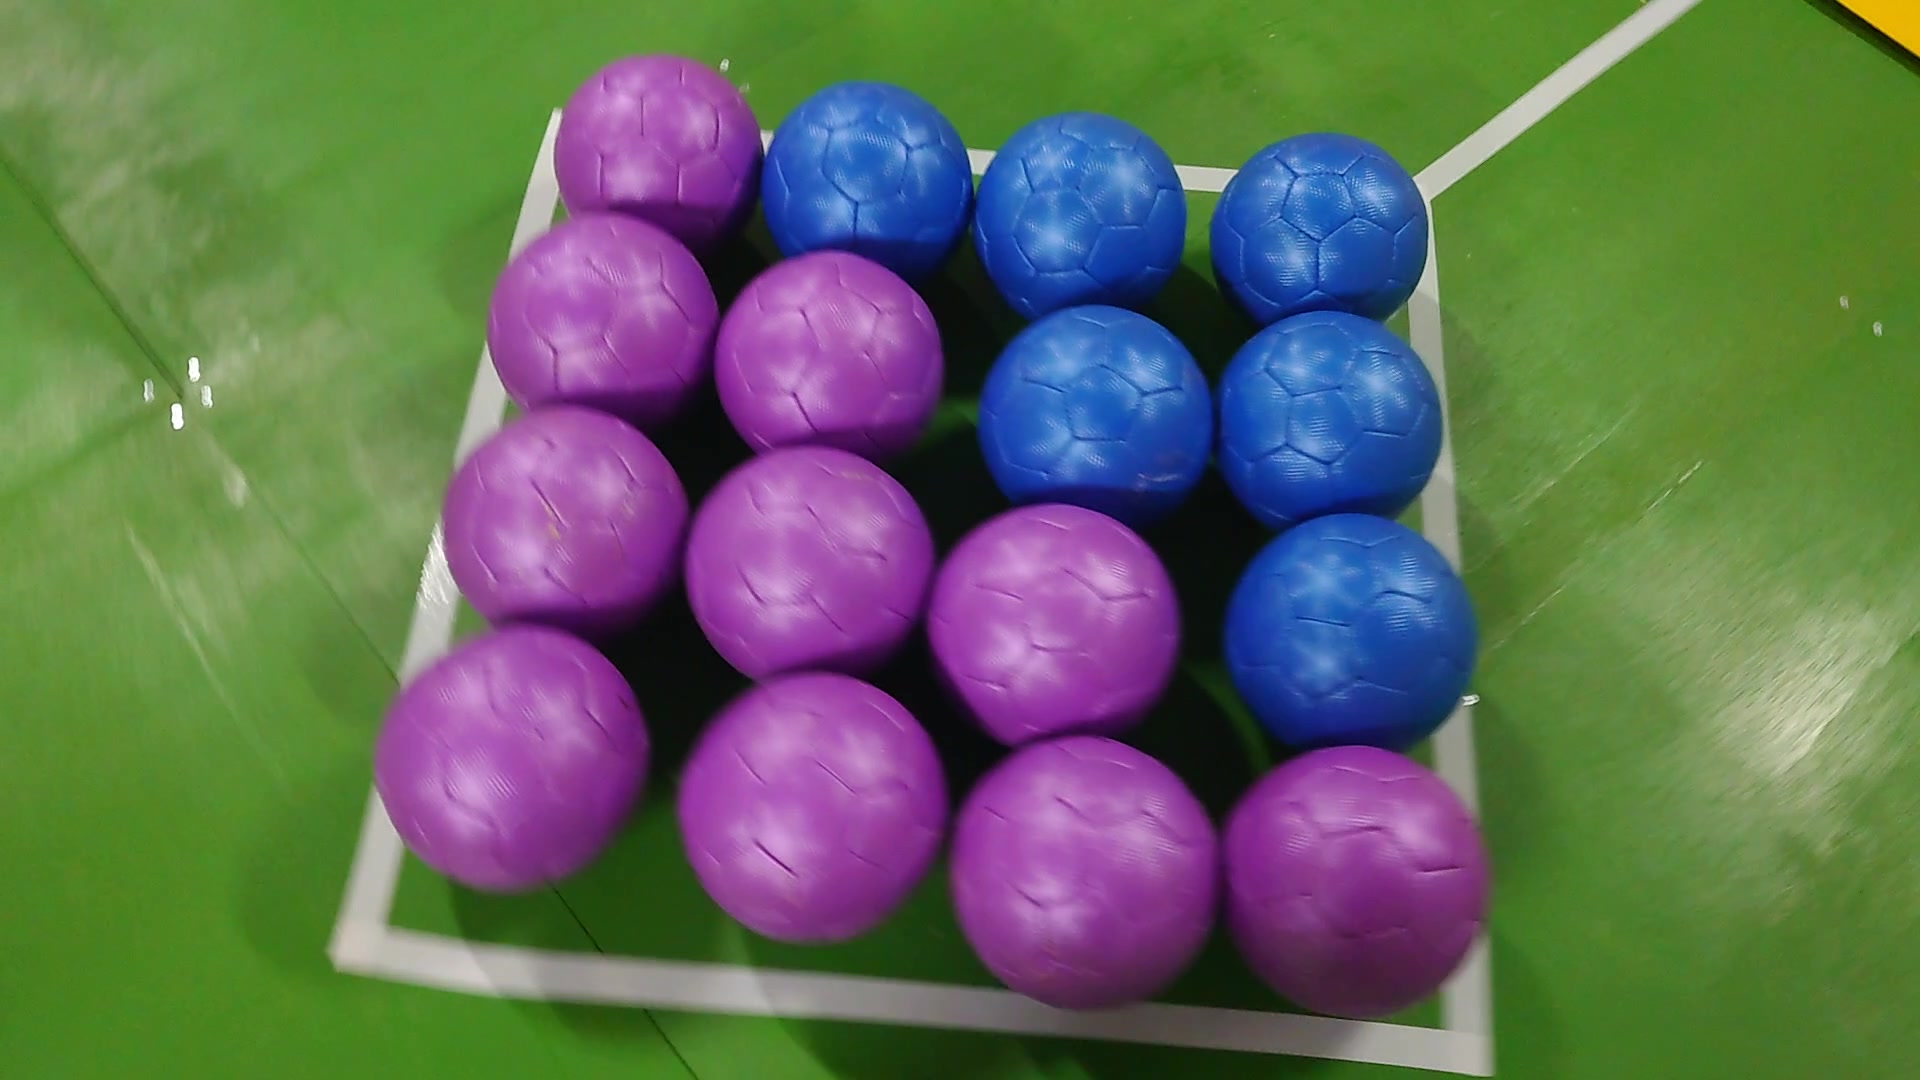blue: (1225, 509, 1480, 757), (980, 301, 1212, 516), (1218, 307, 1443, 529), (757, 75, 973, 268), (1212, 128, 1431, 316), (973, 111, 1188, 301)
purple: (953, 732, 1228, 1006), (676, 673, 953, 944), (1225, 745, 1489, 1022), (372, 624, 646, 889), (924, 502, 1179, 748), (686, 440, 938, 673), (444, 402, 683, 630), (480, 212, 715, 411), (715, 255, 947, 447), (555, 53, 754, 232)
